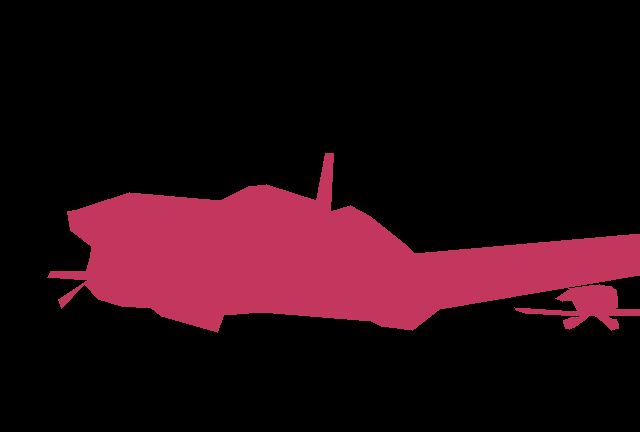Airplane: (47, 153, 640, 332), (514, 284, 640, 331)
